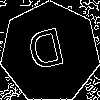D: (25, 27, 69, 80)
